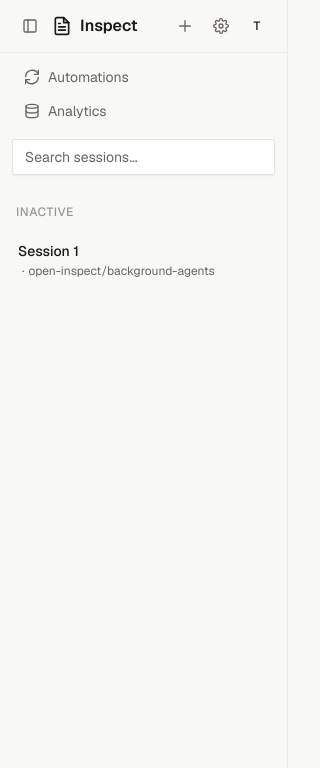
SessionSidebar › opens rename actions on mobile long press
This screenshot has width=320, height=768.
Press the mouse on the link "Session 1 · open-inspect/background-agents" at (116, 260), box [18,242,215,279]
Wait 450 ms
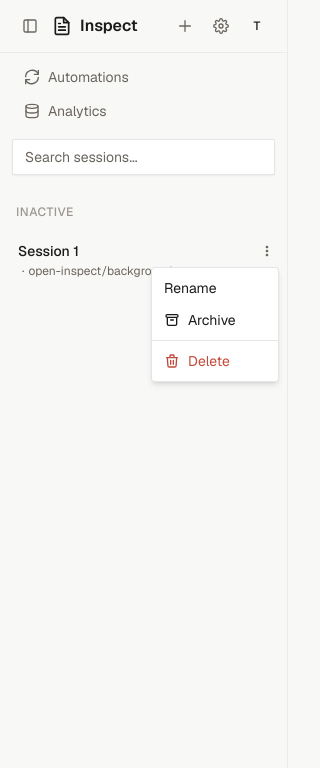
Expected: the menu item "Rename" is shown, [164,279,217,297]
Expected: the menu item "Archive" is shown, [164,311,236,329]
